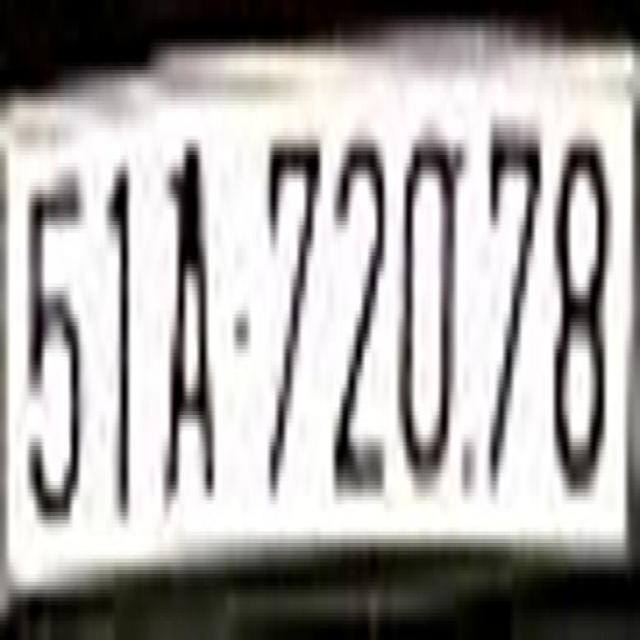0: (400, 116, 456, 492)
1: (102, 159, 138, 504)
2: (330, 140, 386, 497)
5: (23, 159, 80, 543)
7: (480, 101, 541, 508), (264, 120, 320, 493)
8: (547, 109, 608, 504)
A: (158, 144, 217, 504)
